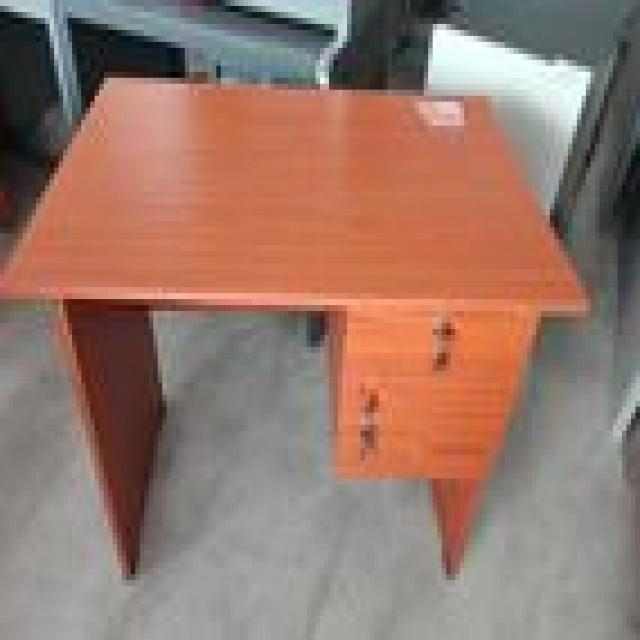others: (4, 78, 590, 580)
